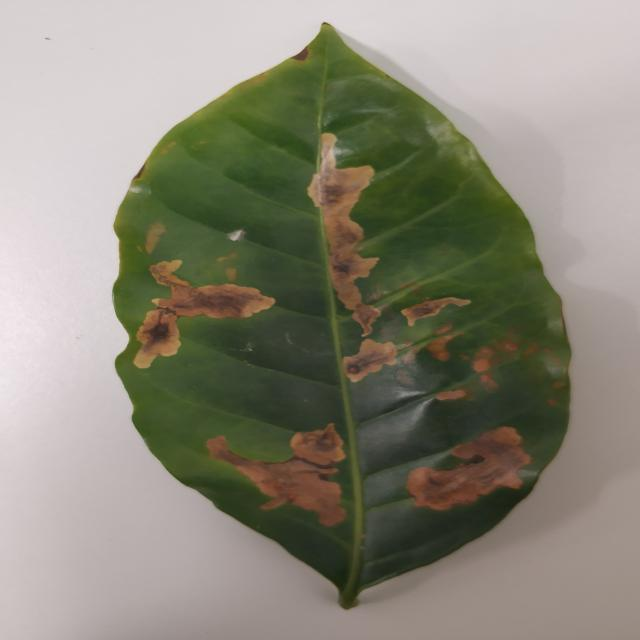Plaga-Minador: (110, 23, 572, 611)
